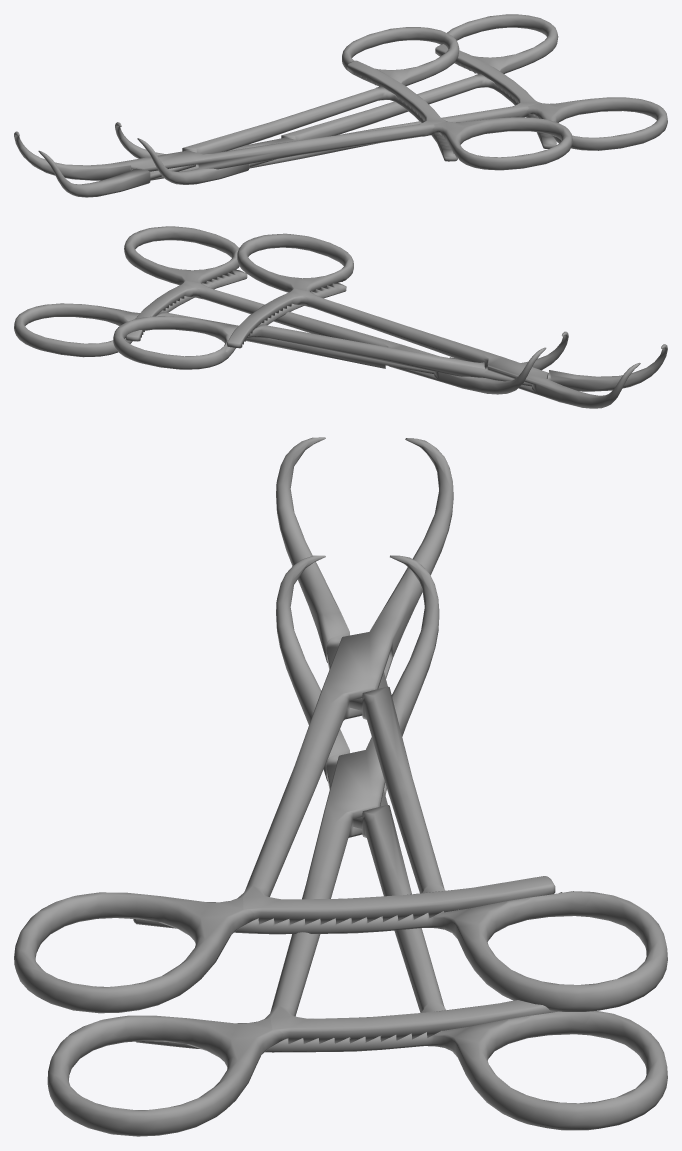
Rendered from instrument_bone_forceps_b01.glb.
3 renders of one model, top to bottom at view 1: azimuth 30°, elevation 25°; view 2: azimuth 150°, elevation 25°; view 3: azimuth 270°, elevation 25°, orthographic. The views are drawn at different scales.
Parts seen in each view (by area): view 1: handleLeft_01_mesh_00 (×2), handleRight_01_mesh_00 (×2); view 2: handleLeft_01_mesh_00 (×2), handleRight_01_mesh_00 (×2); view 3: handleLeft_01_mesh_00 (×2), handleRight_01_mesh_00 (×2).
Part boxes in pixels (x1=…): handleLeft_01_mesh_00 (×2): x1=14, y1=44, x2=667, y2=180; handleRight_01_mesh_00 (×2): x1=38, y1=14, x2=558, y2=197; handleLeft_01_mesh_00 (×2): x1=124, y1=226, x2=640, y2=408; handleRight_01_mesh_00 (×2): x1=14, y1=270, x2=667, y2=391; handleLeft_01_mesh_00 (×2): x1=14, y1=438, x2=557, y2=1136; handleRight_01_mesh_00 (×2): x1=133, y1=437, x2=667, y2=1130.
Bounding box in the file's own units: 0.2091 × 0.0268 × 0.1037.
2 materials, 2 textured.
